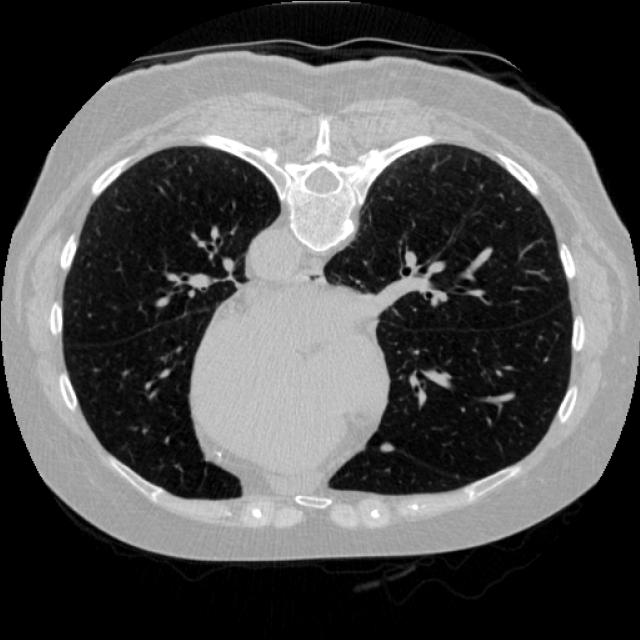nodule: (372, 432, 402, 462)
